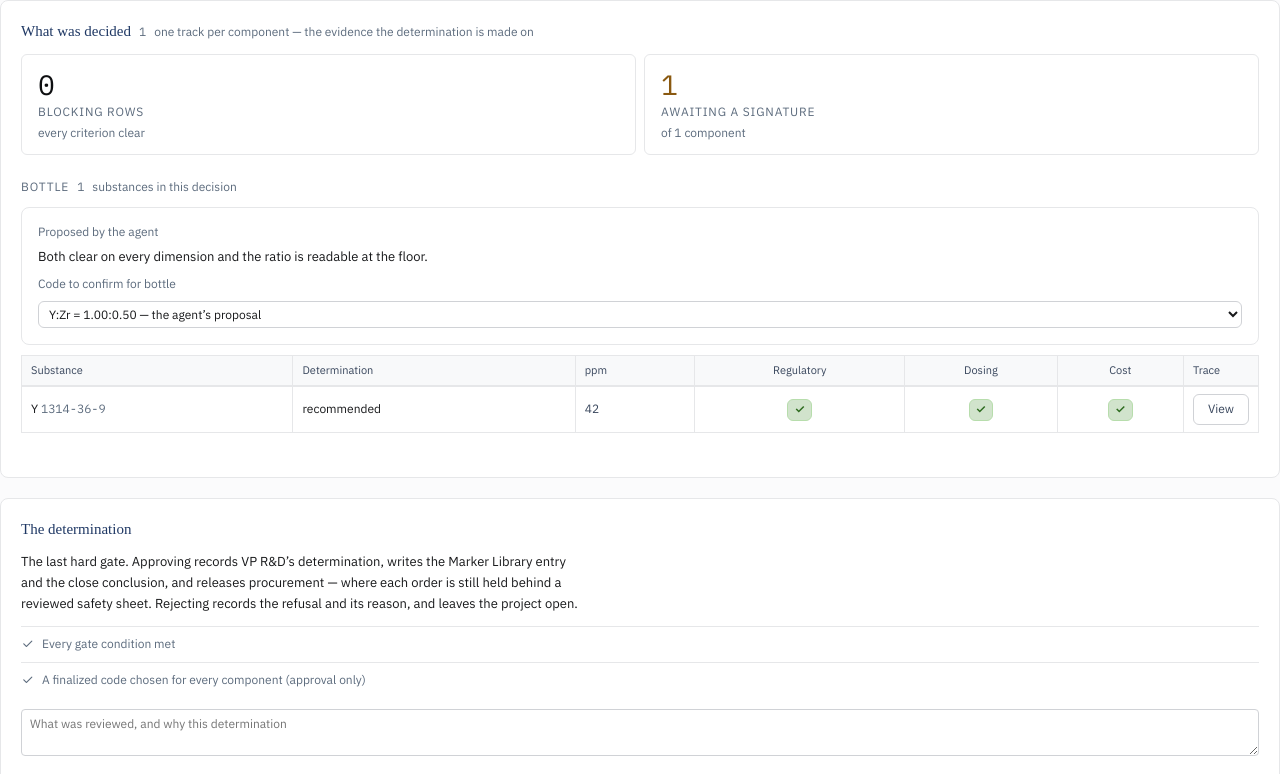
it: Decision — recording a ruling › clears the note after a rejection so the next ruling cannot inherit it
This screenshot has width=1280, height=774.
Expected: the text "Proposed by the agent" is shown, [38, 224, 159, 241]
Type "The cost audit is stale." into the text box named "determination note" at (640, 732), box [21, 709, 1259, 756]
(page scrolled)
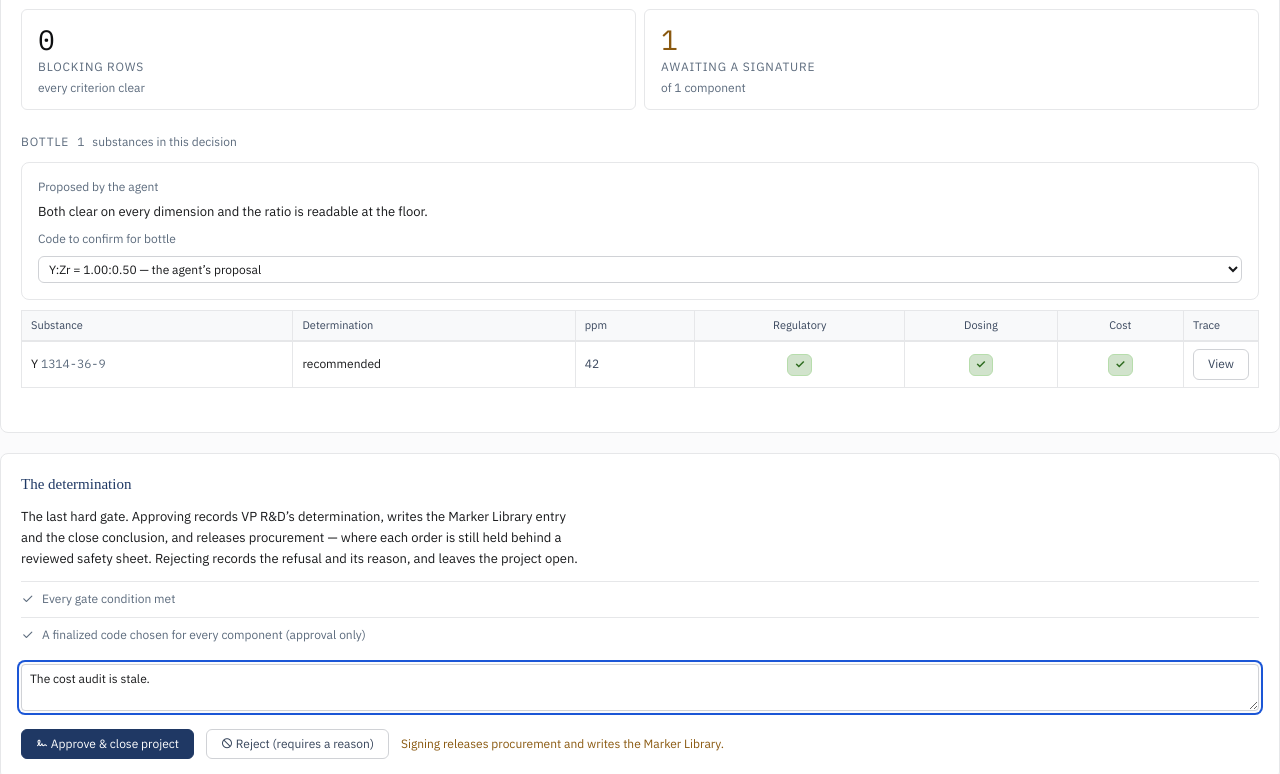
Click the button "Reject (requires a reason)" at (297, 744), box [206, 728, 389, 759]
(page scrolled)
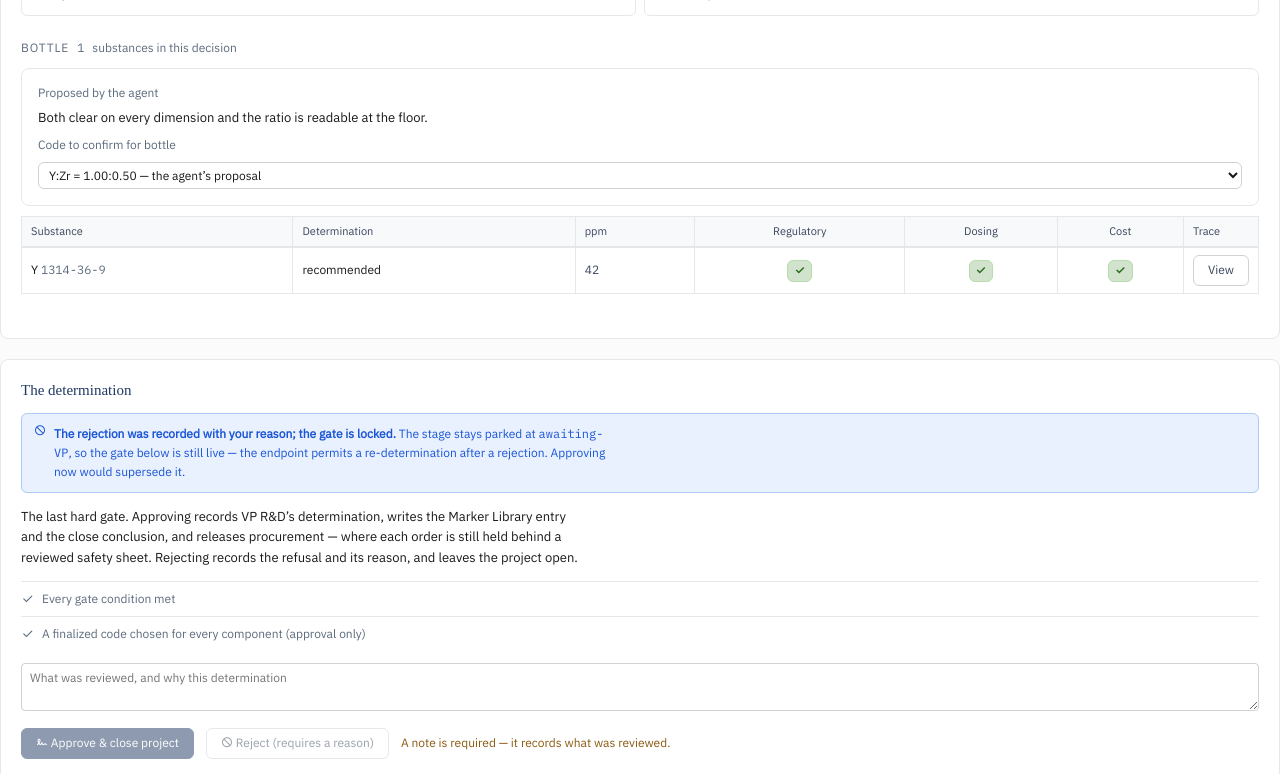
Now the text box named "determination note" is empty, box [21, 663, 1259, 711]
Now the button "Approve & close project" is disabled, box [21, 728, 194, 759]
